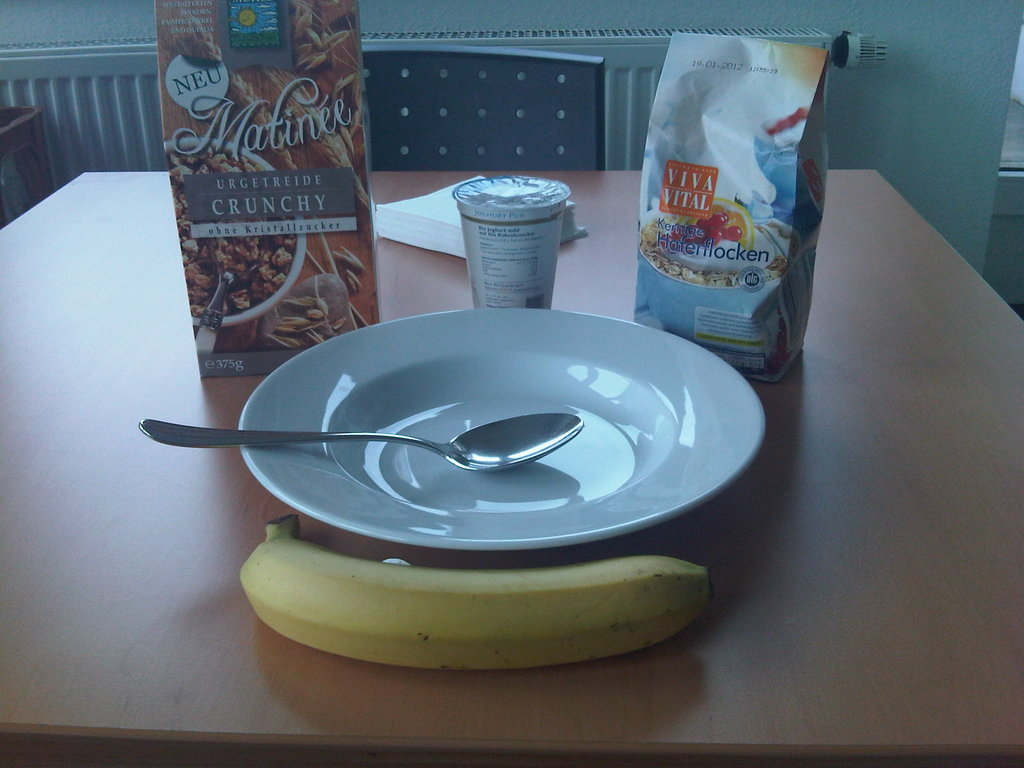plate: (237, 308, 767, 550)
